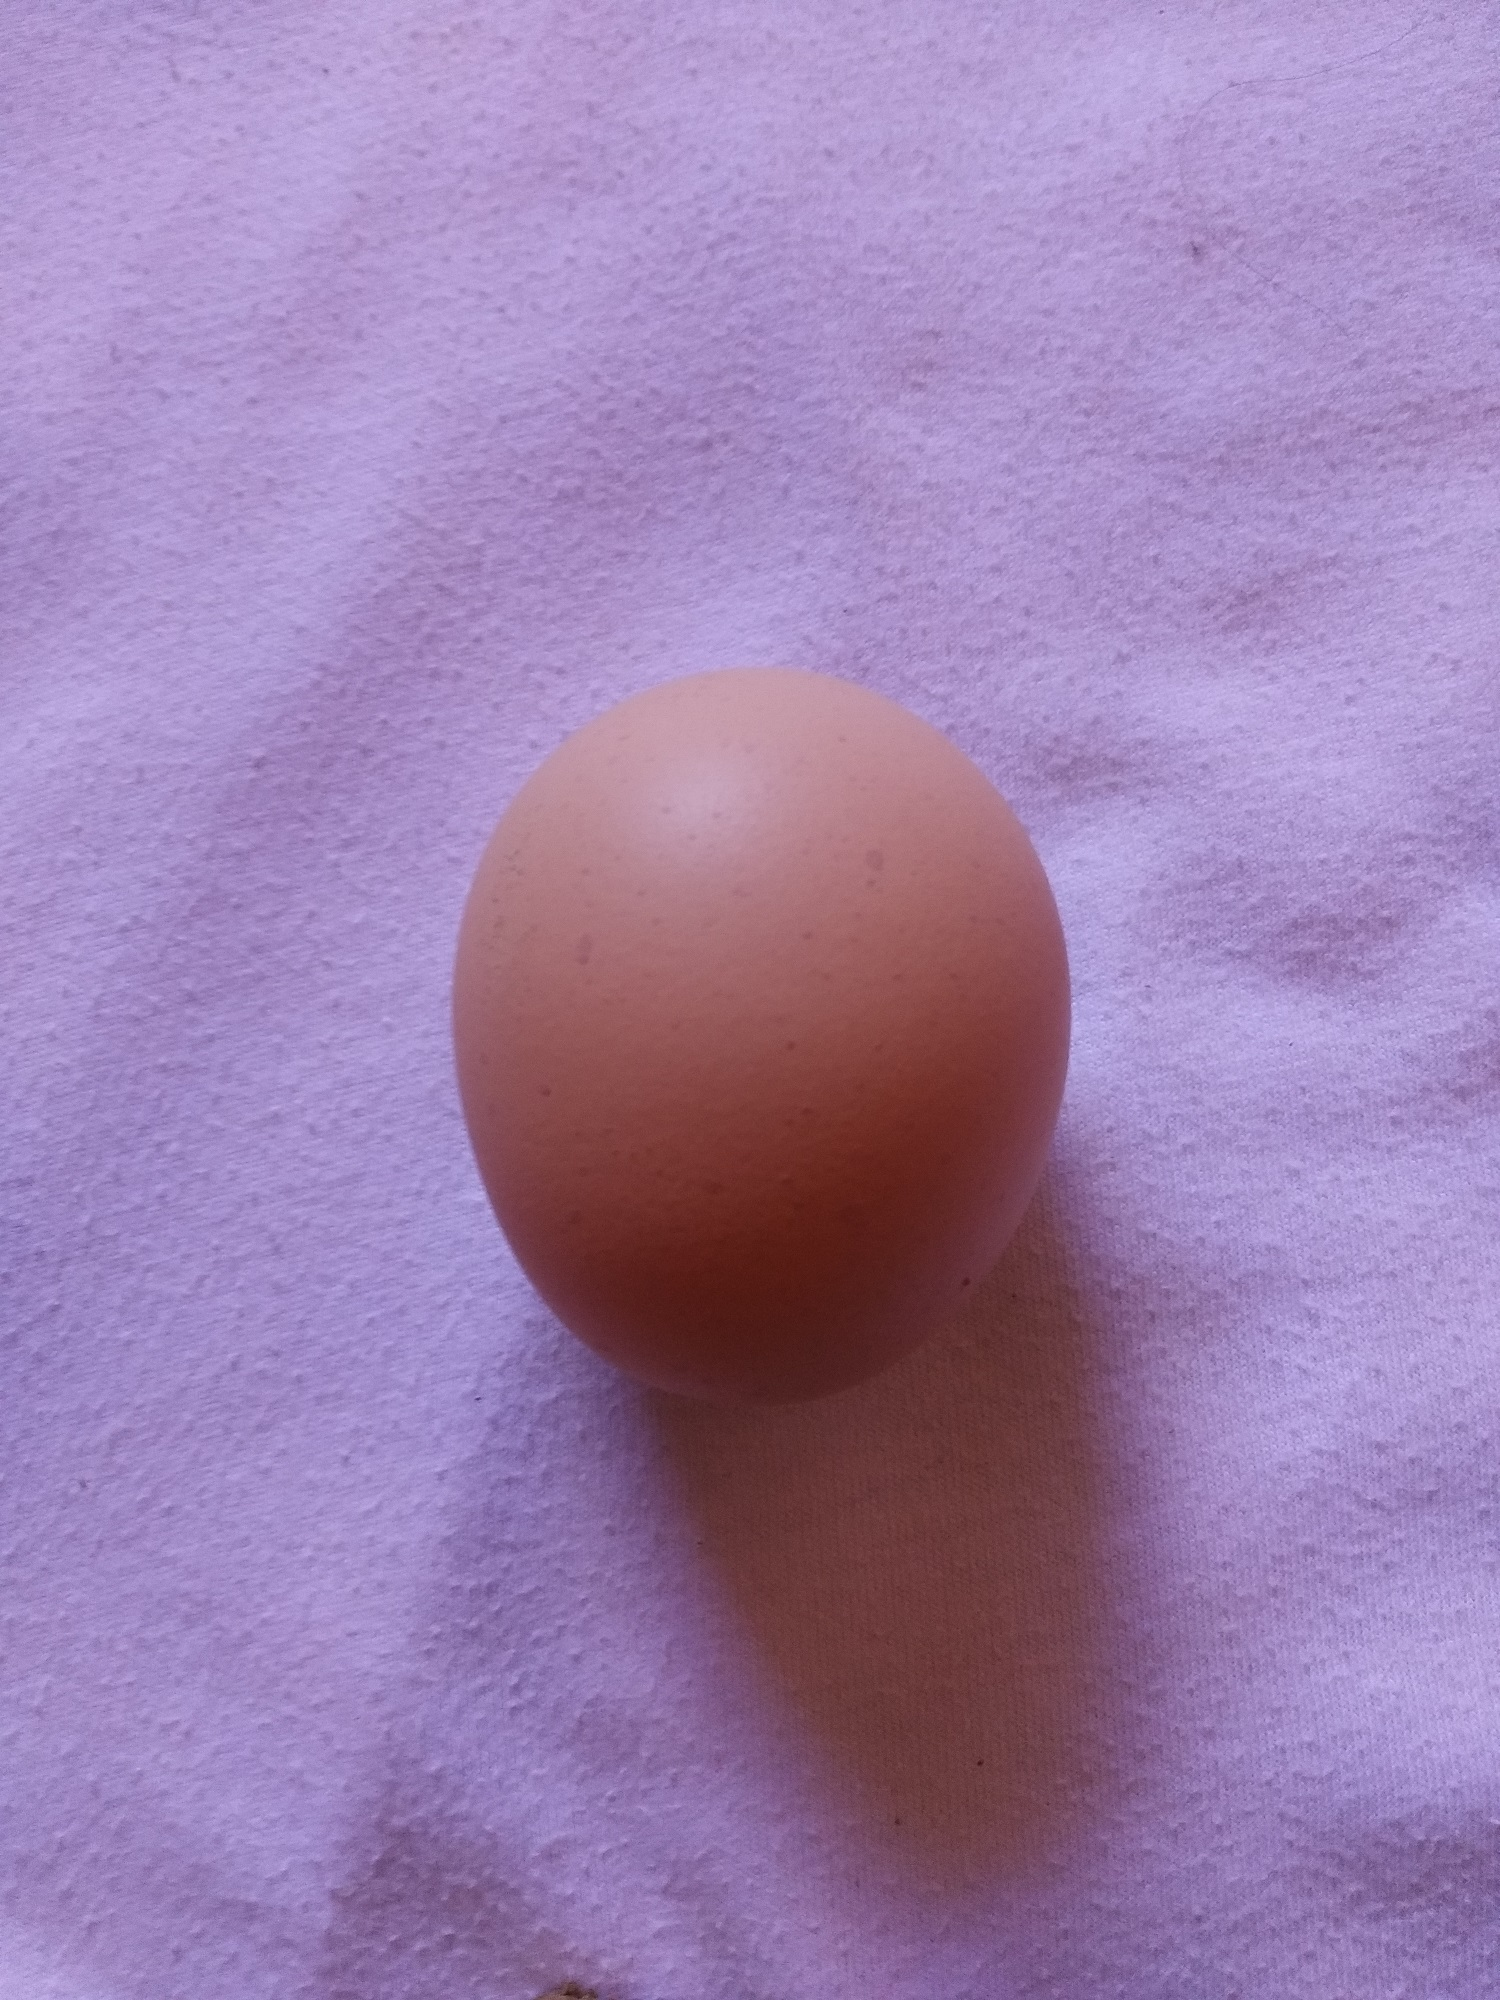Female: (447, 658, 1079, 1427)
